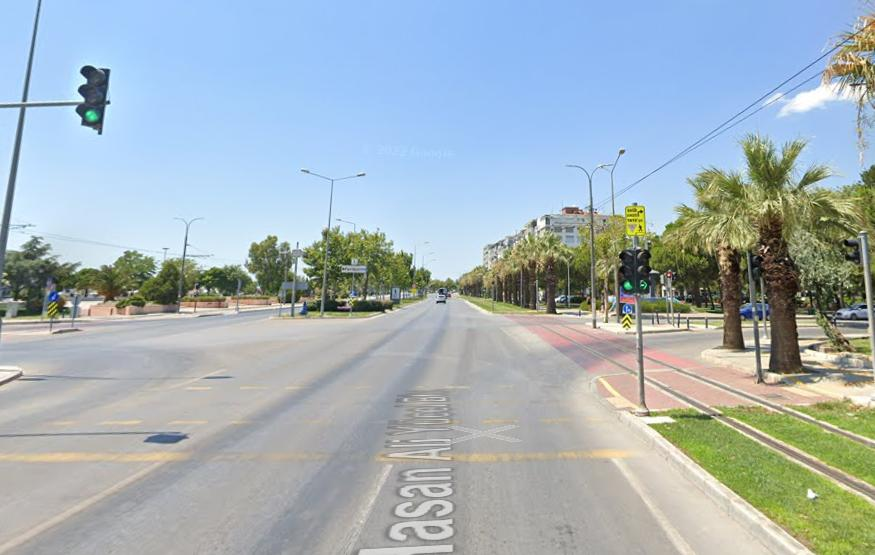greenlight: (75, 62, 104, 130), (617, 247, 636, 294), (636, 245, 654, 293)
